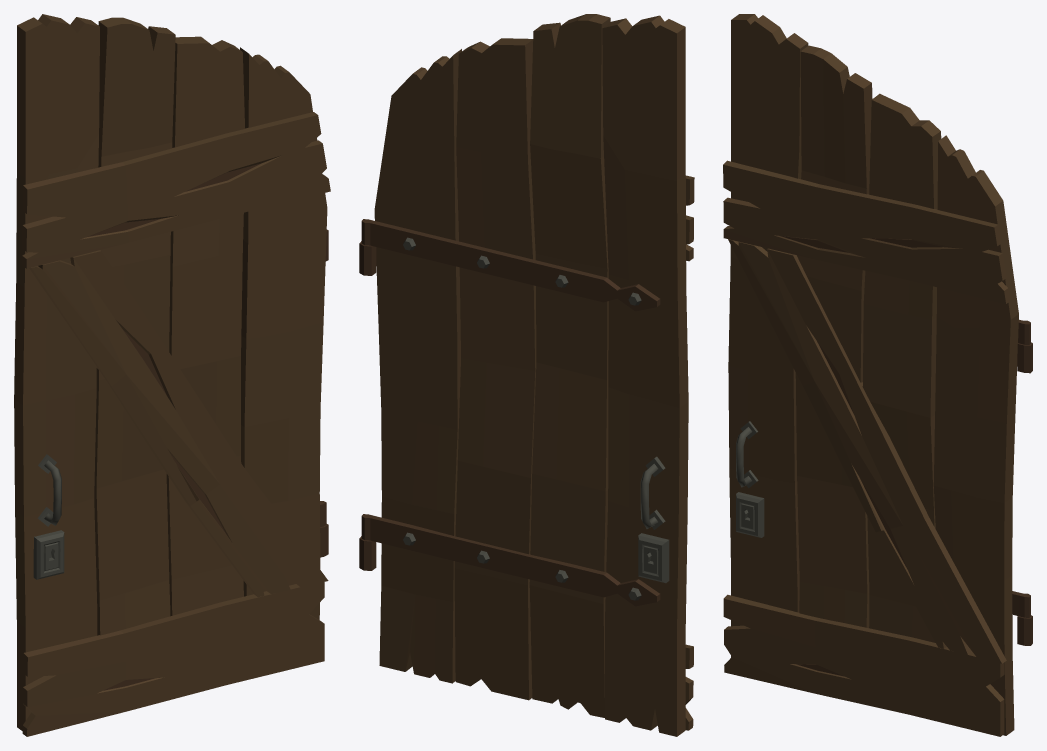
File: wood_gate_door_R.gltf
3 renders of one model, left to right at view 1: azimuth 30°, elevation 25°; view 2: azimuth 150°, elevation 25°; view 3: azimuth 330°, elevation 25°, orthographic. The views are drawn at different scales.
Parts seen in each view (by area): view 1: DoorGate_Wooden_Right; view 2: DoorGate_Wooden_Right; view 3: DoorGate_Wooden_Right.
Part boxes in pixels (x1,y1,x2,y2): DoorGate_Wooden_Right: [14, 14, 330, 736]; DoorGate_Wooden_Right: [359, 14, 694, 736]; DoorGate_Wooden_Right: [723, 14, 1032, 736].
Size of the model in its own units: 1.73 by 3.69 by 0.3497.
Materials: 2 (2 with a texture image).
